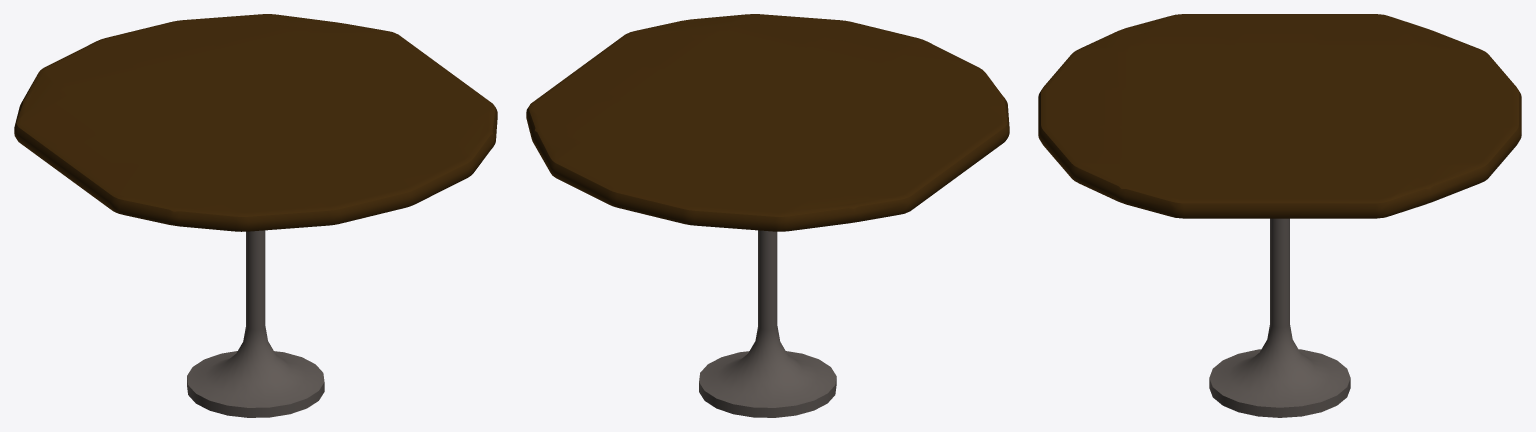
The model's file is Dining Table.fbx.
3 views of the same model, side by side, from view 1: azimuth 30°, elevation 25°; view 2: azimuth 150°, elevation 25°; view 3: azimuth 270°, elevation 25° (orthographic). The views are drawn at different scales.
Parts seen in each view (by area): view 1: Table; view 2: Table; view 3: Table.
Boxes of the visible parts, box(x1,y1,x2,y2) form: Table: box(14, 14, 497, 417); Table: box(526, 14, 1009, 417); Table: box(1038, 14, 1521, 417).
Size of the model in its own units: 1.21 by 0.8269 by 1.29.
